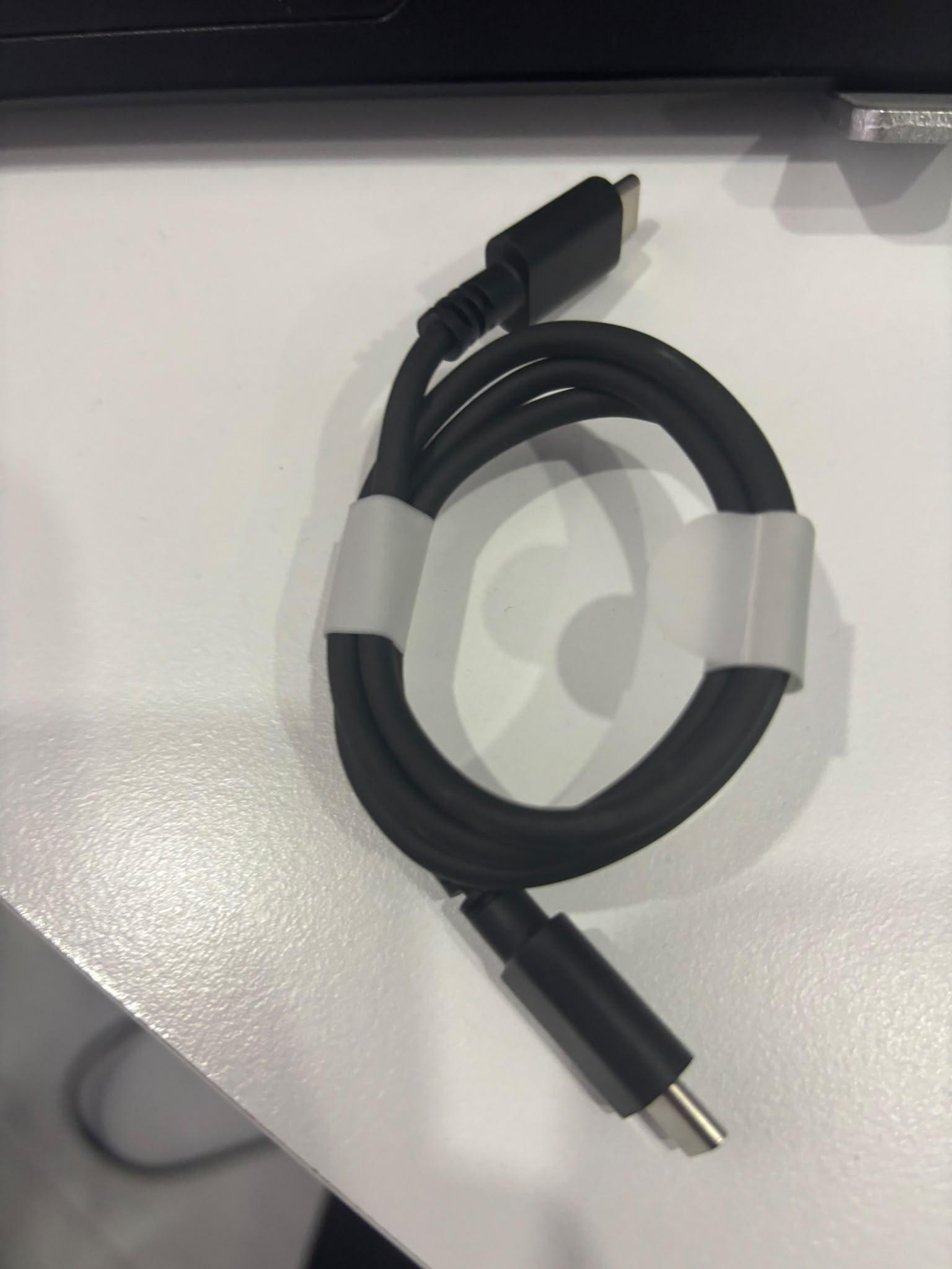cable: (323, 174, 817, 1157)
